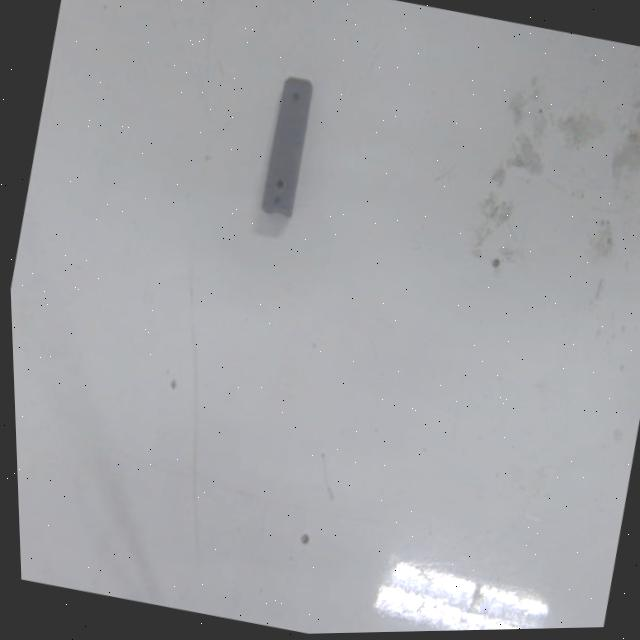grey: (249, 68, 323, 223)
head: (285, 85, 304, 107)
